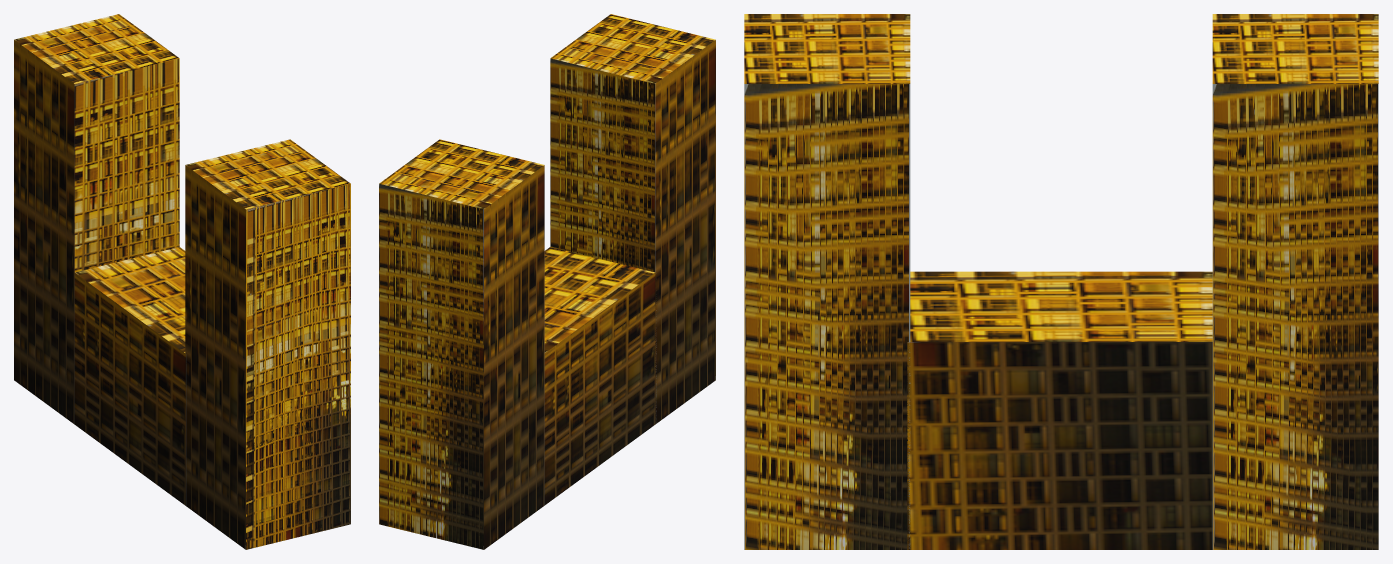
Rendered from golden oasis buildings and props.glb.
The picture shows the model from 3 angles, left to right: view 1: azimuth 30°, elevation 25°; view 2: azimuth 150°, elevation 25°; view 3: azimuth 270°, elevation 25°; orthographic projection. The views are drawn at different scales.
Visible parts, largest first — view 1: casino.001; view 2: casino.001; view 3: casino.001.
Boxes of the visible parts, <box> form: casino.001: <box>14,14,350,549</box>; casino.001: <box>379,14,715,549</box>; casino.001: <box>744,14,1378,549</box>.
Bounding box in the file's own units: 26.07 × 80.82 × 99.7.
1 material, 1 textured.
